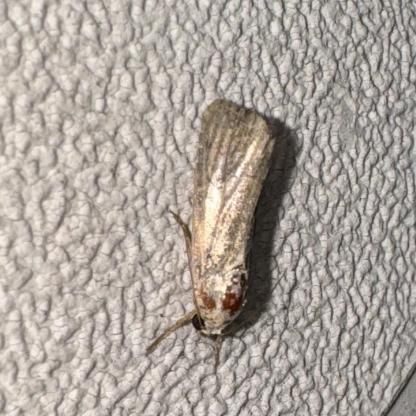Fall Armyworm Moth: (143, 95, 280, 368)
